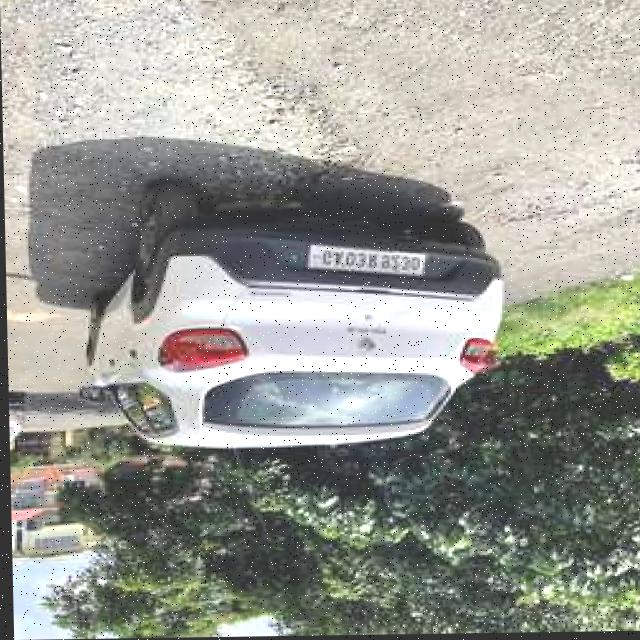plate: (307, 243, 426, 280)
